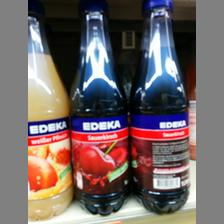Saft: (126, 0, 189, 212), (69, 0, 131, 214), (27, 0, 74, 220)
